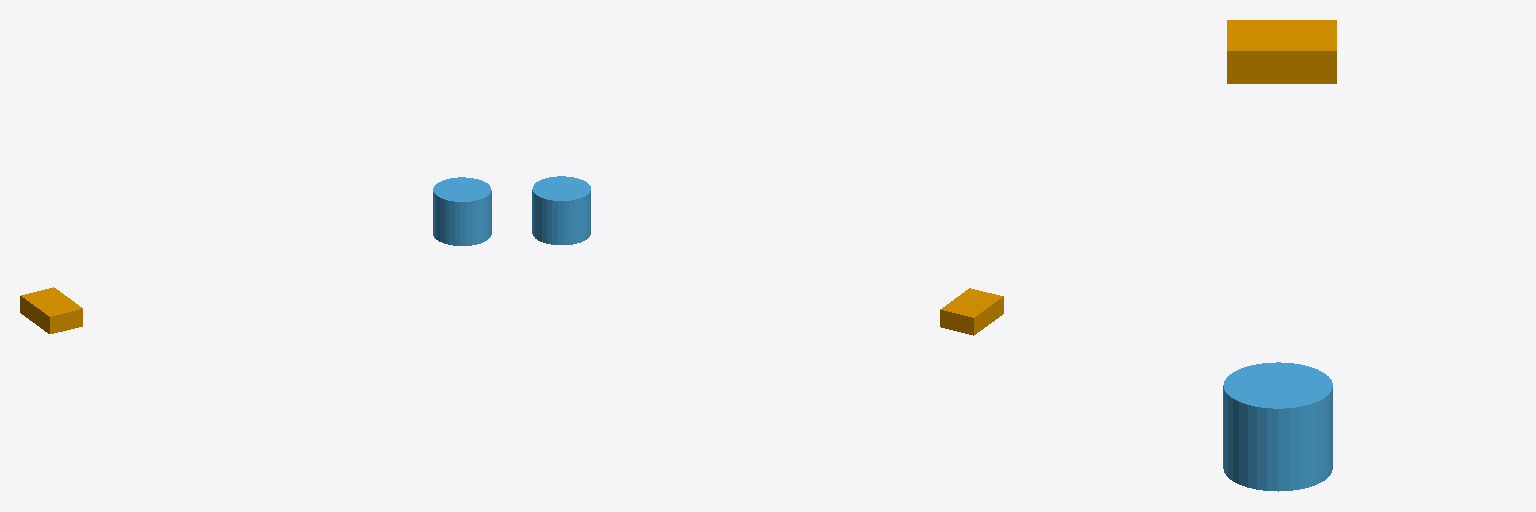
The robot description file, URDF, robot "renov_robot":
<?xml version="1.0"?>

<robot name="renov_robot">
  <link name="imu_link">
    <visual>
      <origin xyz="0 0 0" />
      <geometry>
        <box size="0.06 0.04 0.02" />
      </geometry>
      <material name="orange" />
    </visual>
  </link>

  <link name="laser_link">
    <visual>
      <origin xyz="0 0 0" />
      <geometry>
        <cylinder length="0.05" radius="0.03" />
      </geometry>
      <material name="gray" />
    </visual>
  </link>

  <link name="base_link" />

  <joint name="laser_link_joint" type="fixed">
    <parent link="base_link" />
    <child link="laser_link" />
    <!--<origin xyz="0.485 -0.002 0" rpy="0 0 3.1415926"/> -->
    <origin xyz="0.485 -0.002 0" rpy="0 0 3.1415926"/> 
  </joint>

  <joint name="imu_link_joint" type="fixed">
    <parent link="base_link" />
    <child link="imu_link" />
    <!--<origin xyz="0.0385 -0.002 0" rpy="0 0 -1.5707963"/> -->
    <origin xyz="0 0 0" rpy="0 0 -1.5707963"/>
  </joint>


</robot>

--- What the picture shows (computed from the rendered views, not written in the file) ---
3 views of the same robot in one strip: view 1: azimuth 30°, elevation 25°; view 2: azimuth 150°, elevation 25°; view 3: azimuth 270°, elevation 25° (orthographic).
Robot: renov_robot — 3 links, 2 joints (2 fixed); root link base_link; default pose: all joints at 0.
Visible links, largest first — view 1: laser_link, imu_link; view 2: laser_link, imu_link; view 3: laser_link, imu_link.
Link boxes in pixels (x1,y1,x2,y2): laser_link: [433, 177, 491, 245]; imu_link: [20, 287, 82, 333]; laser_link: [532, 176, 590, 244]; imu_link: [940, 288, 1003, 335]; laser_link: [1223, 362, 1332, 491]; imu_link: [1227, 20, 1336, 83].
Size in the robot's own frame: 0.535 by 0.062 by 0.05 metres.
Geometry: primitives only (box / cylinder / sphere), no mesh files.
